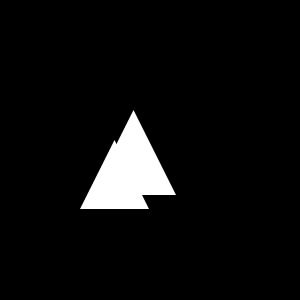triangle: (91, 110, 176, 195), (80, 140, 149, 209)
